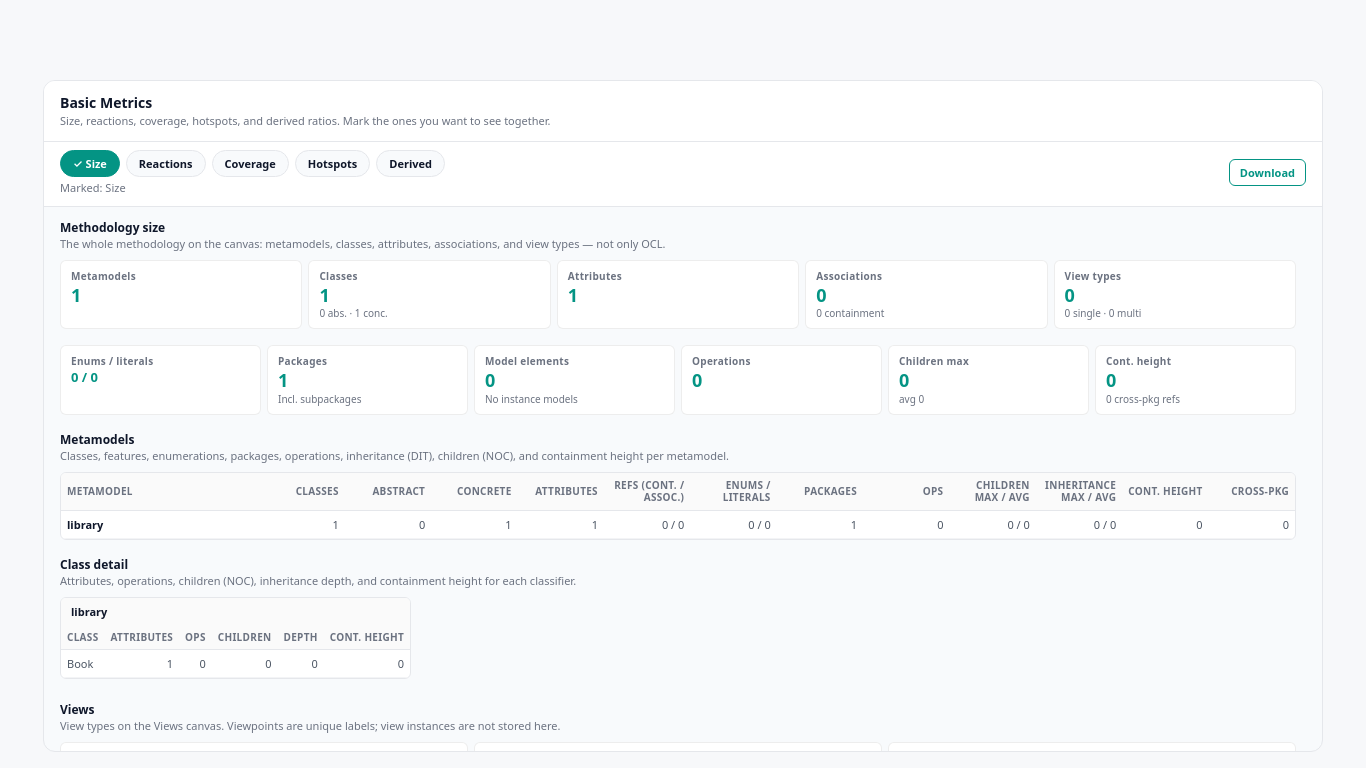
Scenario: CanvasMetricsOverlay › shows the dashboard when visible and loads OCL from existing rule-sets API
Expected: the text "Basic Metrics" is shown, left=60, top=93, right=152, bottom=112
Expected: the text "library" is shown, left=61, top=510, right=258, bottom=538
Click the button with test id "metrics-tab-derived": click(411, 163) left=376, top=150, right=445, bottom=177
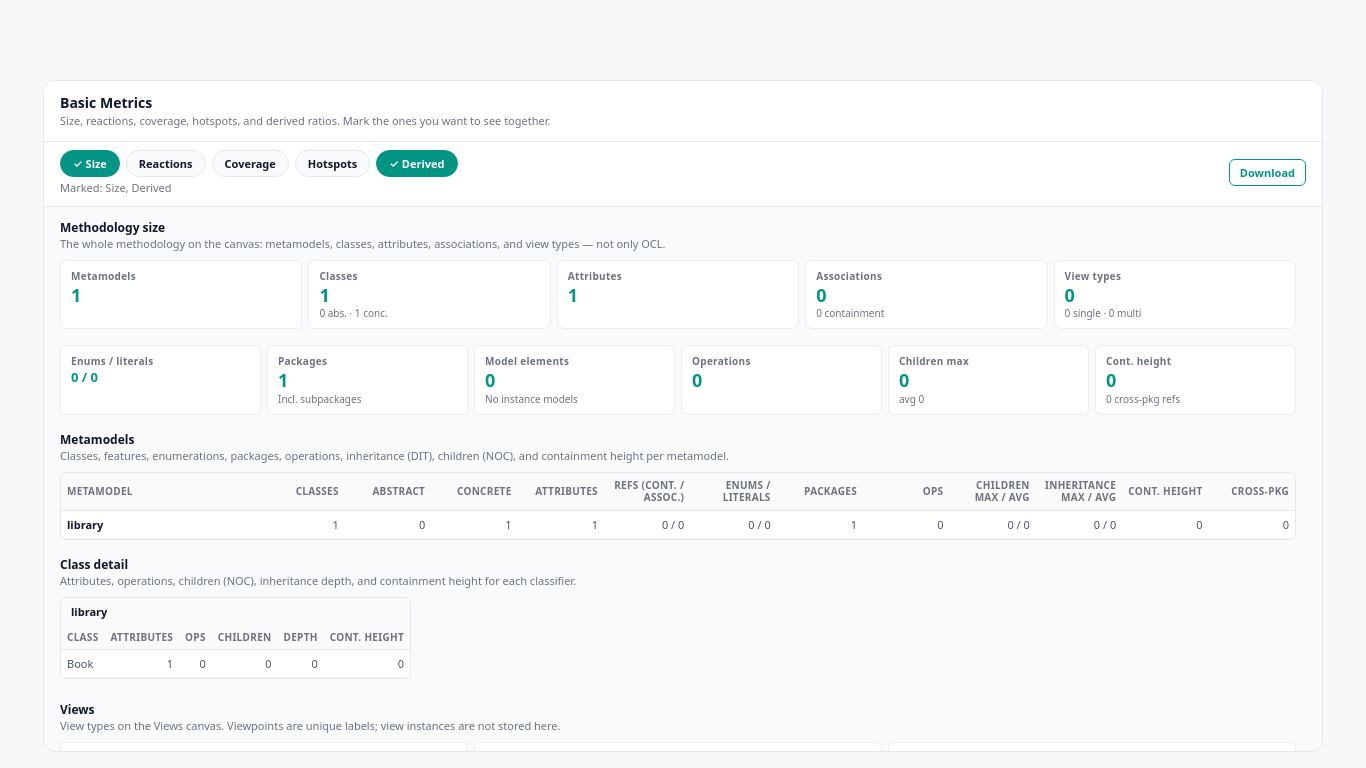
Expected: the text "Methodology size" is shown, left=60, top=219, right=165, bottom=236
Click the button with test id "metrics-tab-coverage": click(250, 163) left=212, top=150, right=289, bottom=177
(page scrolled)
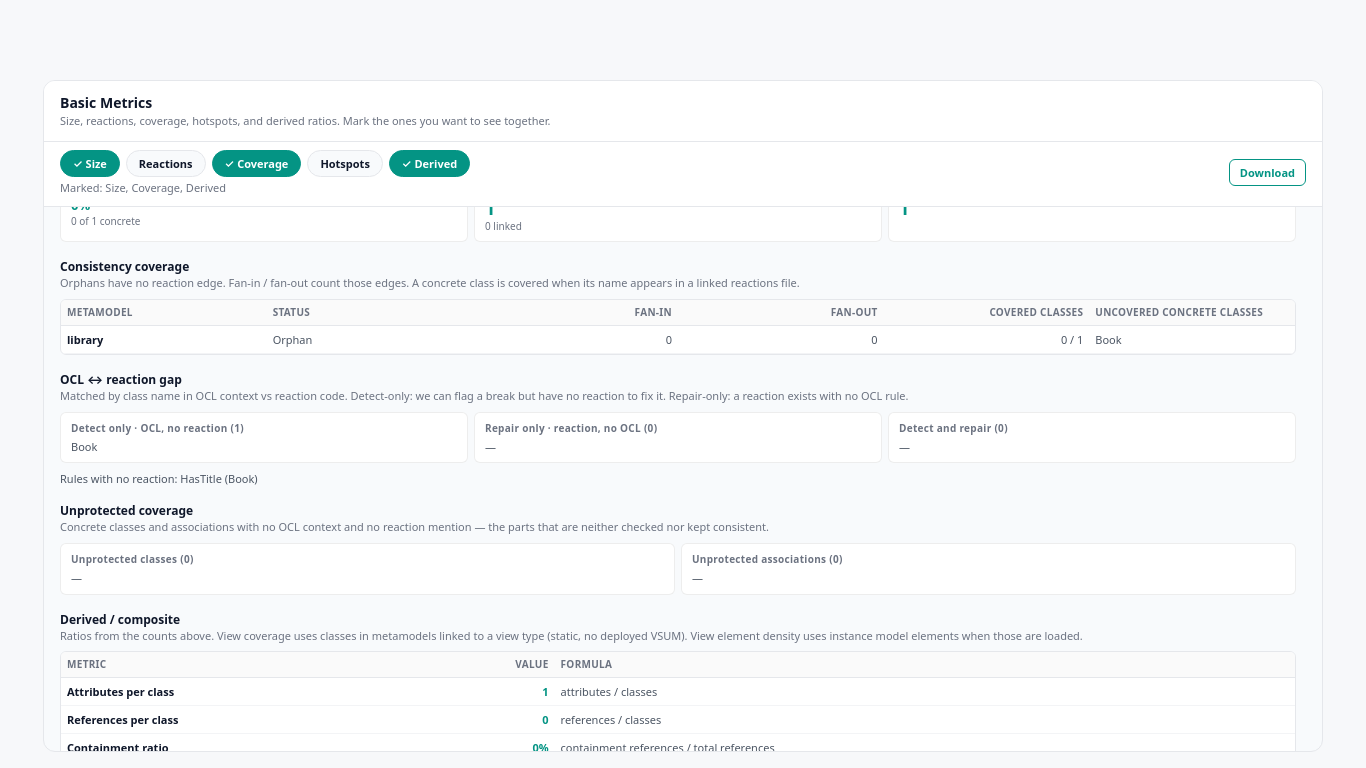
Result: the text "Derived / composite" is shown at left=60, top=610, right=180, bottom=628
Result: the text "Rules with no reaction: HasTitle (Book)" is shown at left=60, top=471, right=258, bottom=486
